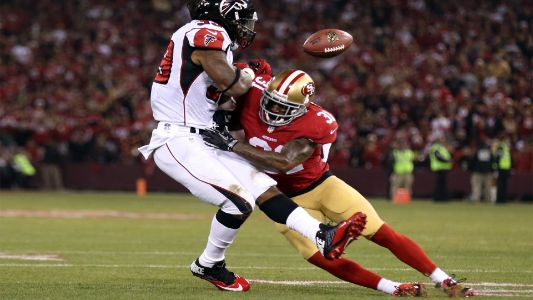futbol americano: (302, 29, 353, 58)
